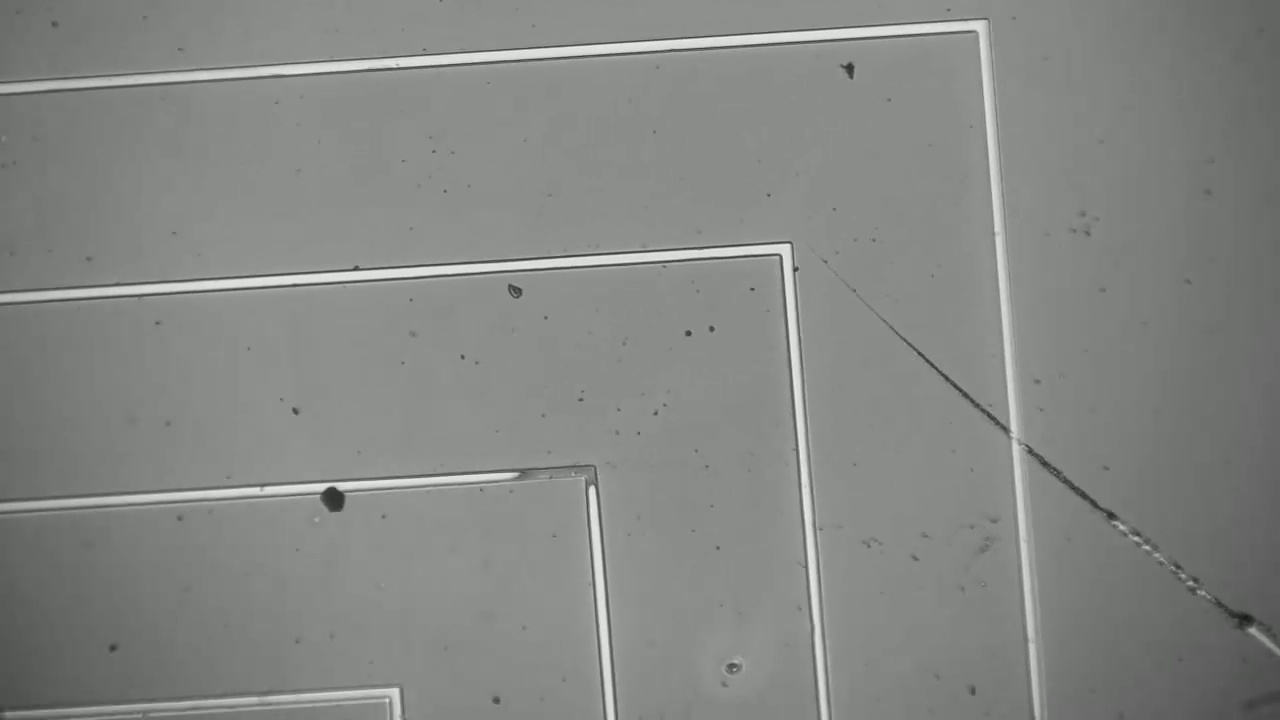gray_line: (493, 457, 617, 490), (573, 448, 607, 505)
scratch: (803, 245, 1279, 655)
stains_enbedded: (299, 467, 362, 526)
